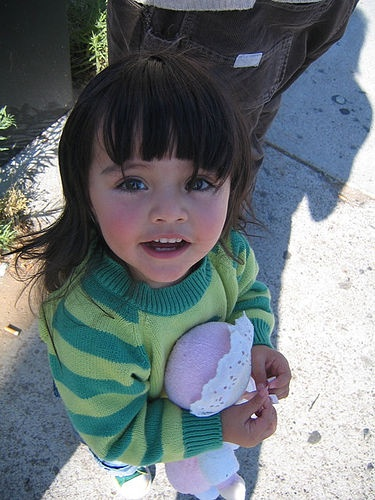head: (85, 52, 235, 285)
person: (18, 37, 309, 499)
